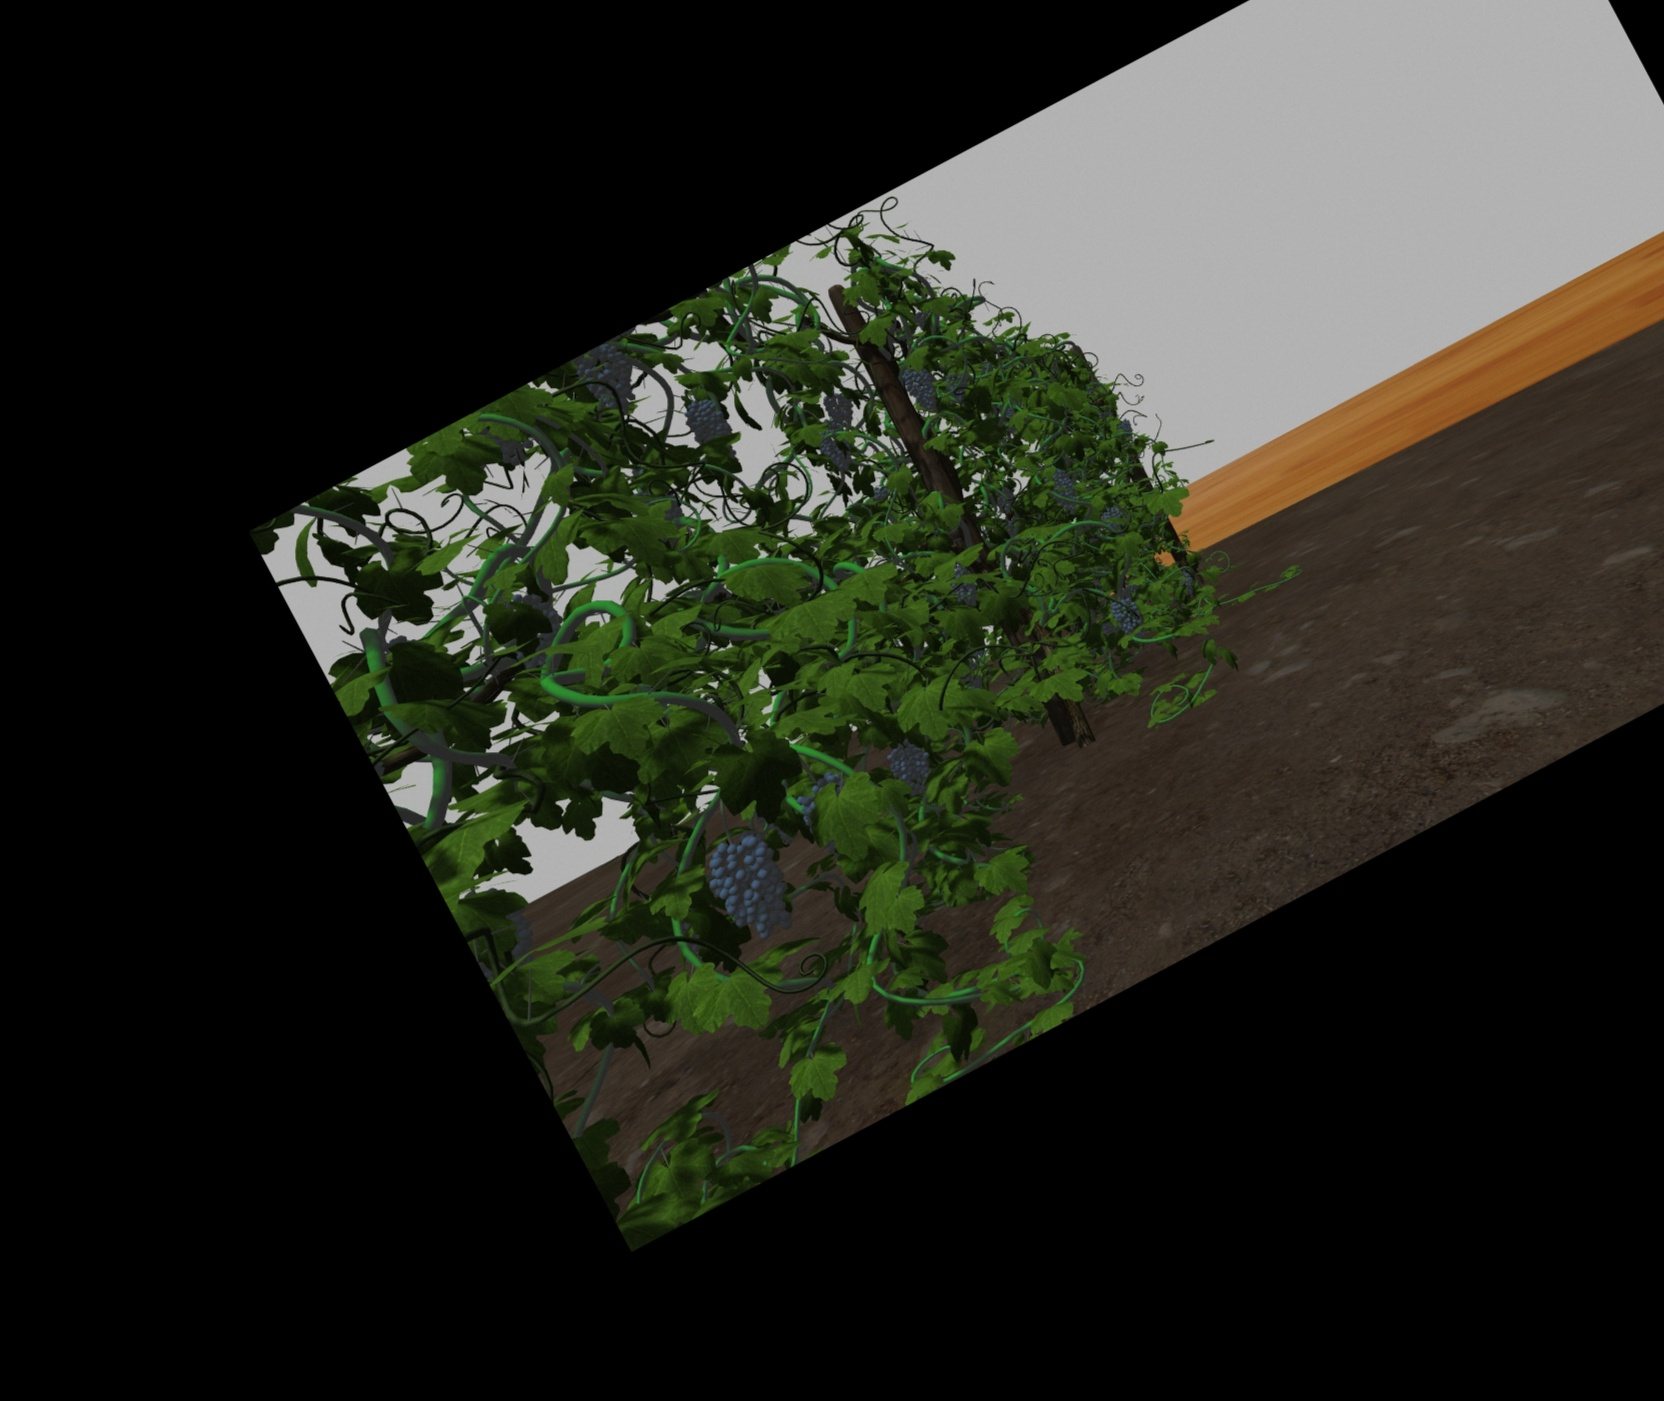grape: (720, 838, 785, 942), (587, 354, 638, 411), (894, 744, 933, 795), (690, 396, 726, 450), (908, 364, 933, 411), (823, 427, 848, 473), (1112, 598, 1140, 634), (1052, 470, 1075, 511), (954, 571, 976, 607), (827, 392, 851, 425), (947, 372, 968, 398), (1118, 418, 1132, 436)
